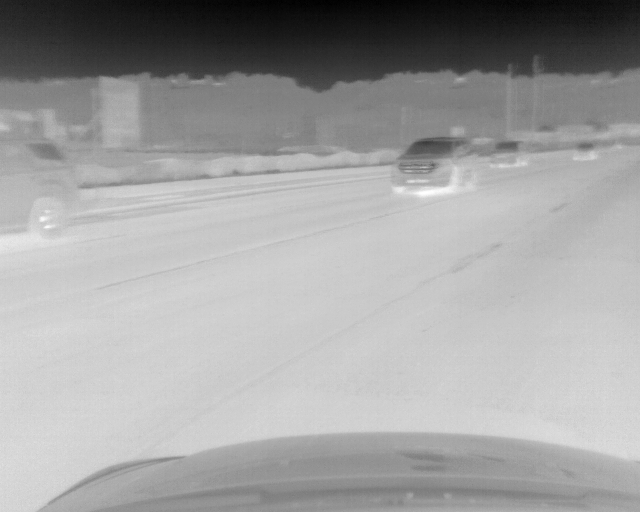car: (1, 137, 83, 240), (389, 135, 479, 194), (488, 141, 529, 168), (572, 142, 599, 161)
